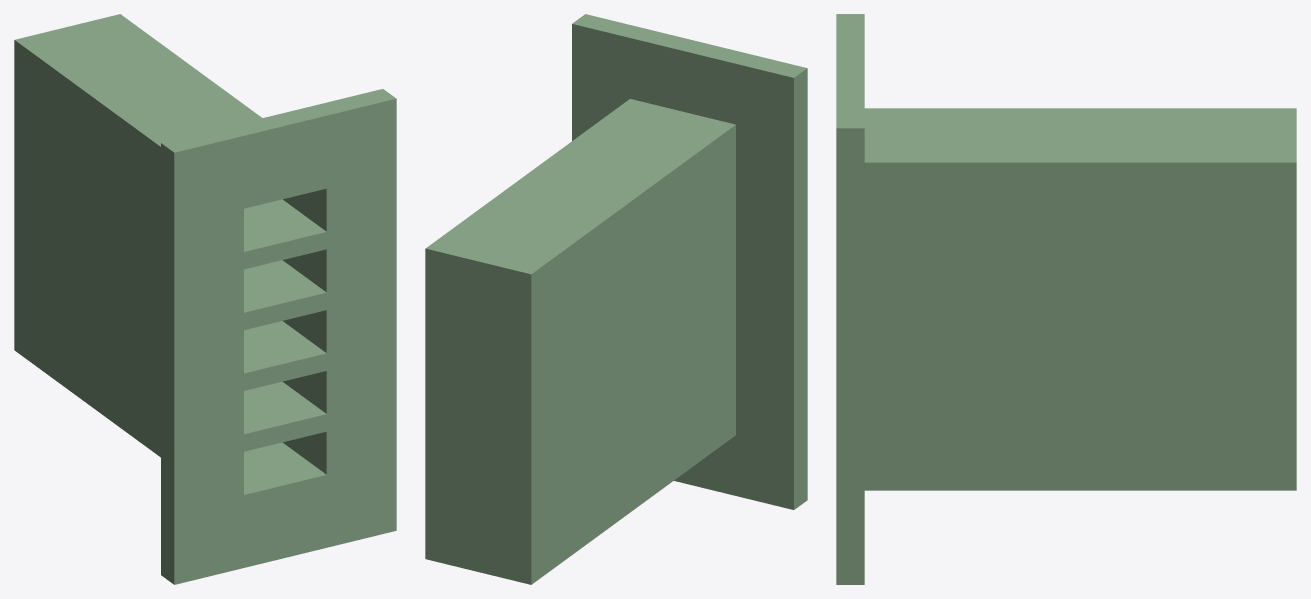
The picture shows the model from 3 angles, left to right: view 1: azimuth 30°, elevation 25°; view 2: azimuth 150°, elevation 25°; view 3: azimuth 270°, elevation 25°; orthographic projection. The views are drawn at different scales.
Size of the model in its own units: 19.11 by 35.54 by 32.5.
